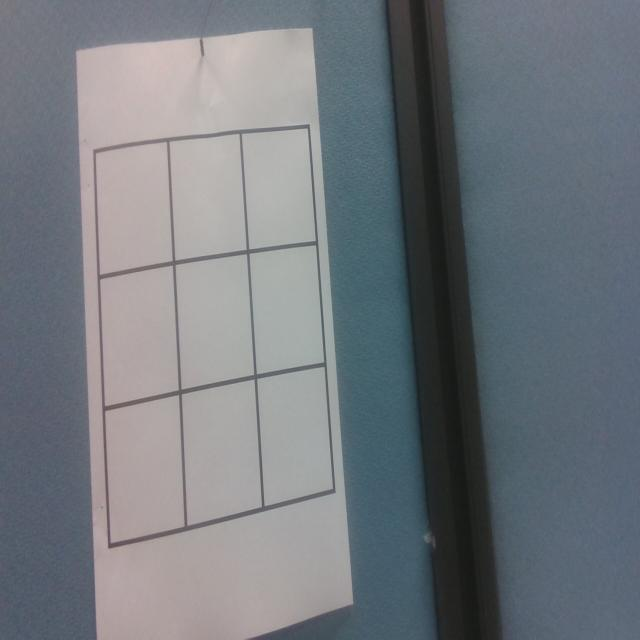null: (105, 396, 185, 546), (183, 379, 263, 528), (100, 264, 179, 408), (259, 366, 334, 512), (176, 254, 255, 392), (96, 142, 171, 275), (251, 245, 325, 378), (173, 134, 248, 260), (242, 128, 316, 253)
table: (79, 119, 341, 559)
